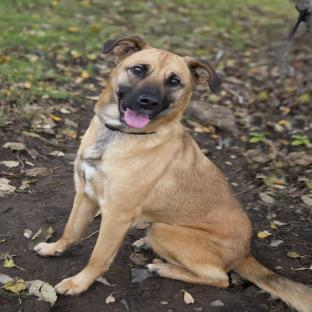Animal: (34, 36, 312, 312)
